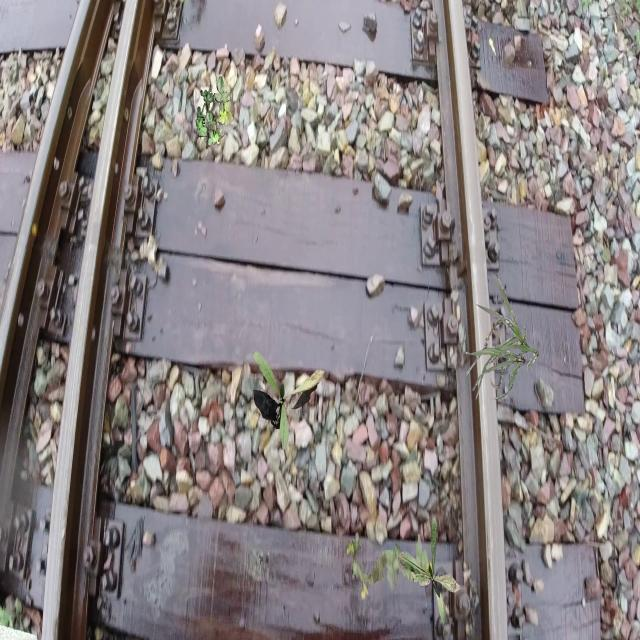Plant: (466, 275, 539, 400), (398, 518, 462, 630), (253, 351, 324, 451), (346, 532, 432, 600), (196, 76, 234, 150)
